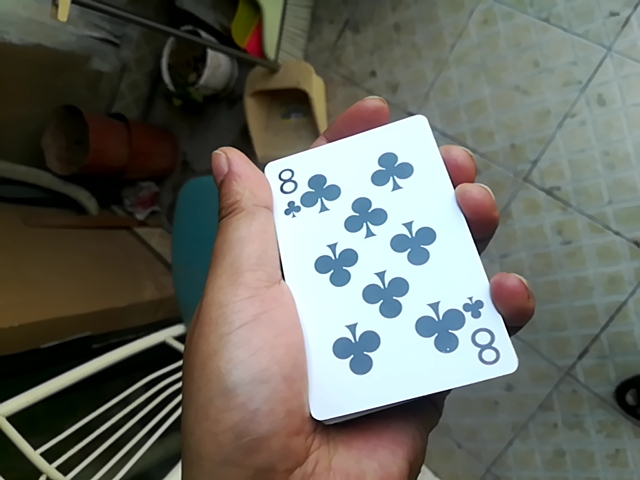mh 8: (265, 103, 517, 420)
